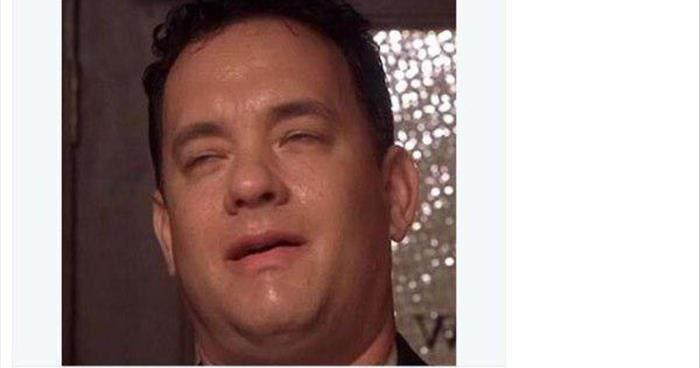Drunk: (163, 39, 372, 328)
